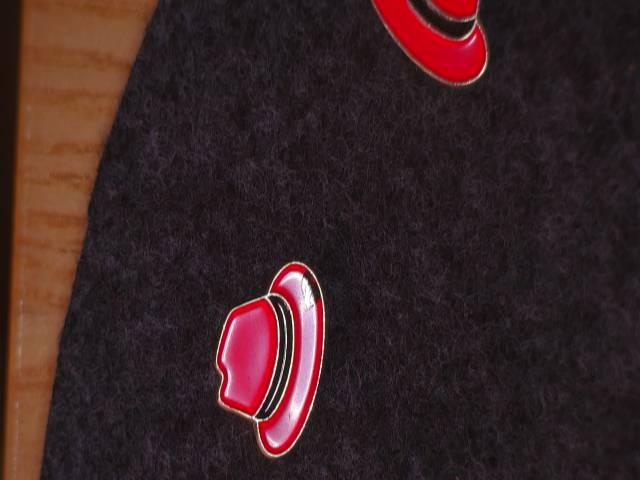Red-Hat: (197, 233, 355, 466), (359, 0, 504, 114)
Scratch: (292, 262, 339, 322)
